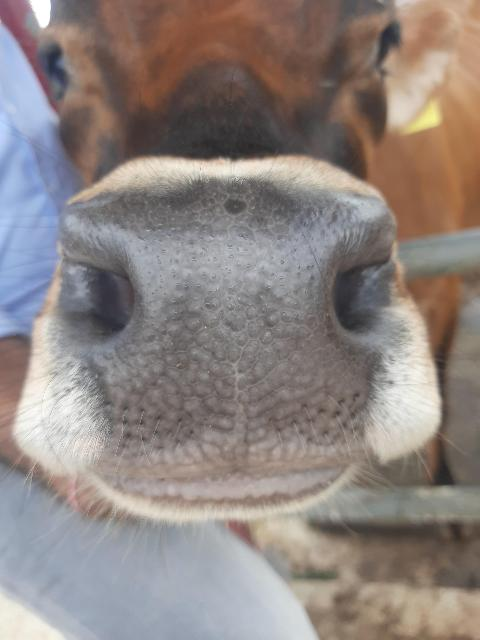Muzzle: (89, 204, 357, 456)
